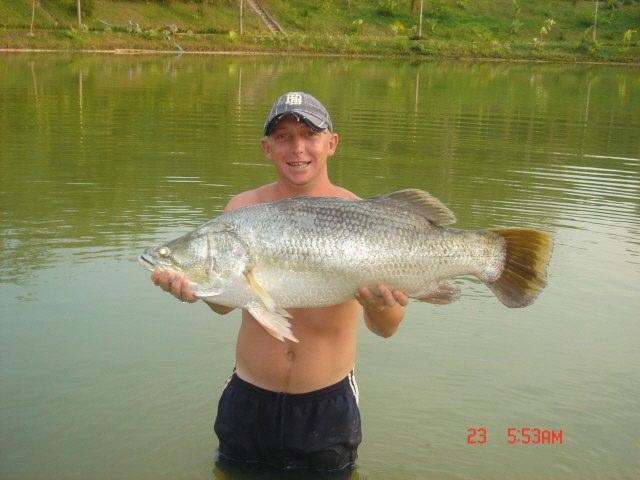Mulut: (123, 233, 181, 294)
Sirip Anal: (399, 272, 471, 324)
Sirip Dada: (232, 258, 290, 318)
Sirip Ekor: (467, 218, 565, 322)
Sirip Perut: (236, 295, 308, 355)
Sirip Punggung: (351, 176, 471, 246)
